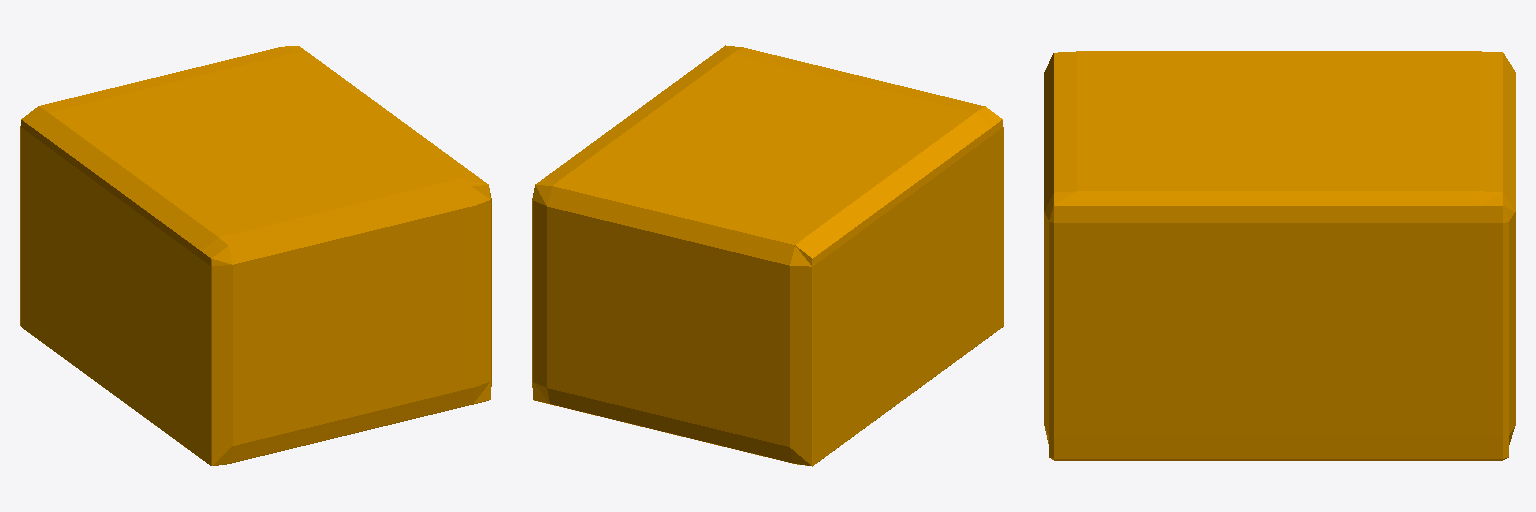
robot.urdf — cylinder_box_28:
<?xml version="1.0" encoding="utf-8"?>  <robot name="cylinder_box_28">   <link name="cylinder_box_28">     <visual>       <geometry>         <mesh filename="../meshes/box/box_28.stl" scale="1 1 1"/>       </geometry>     </visual>     <collision>       <geometry>         <mesh filename="../meshes/box/box_28.stl" scale="1 1 1"/>       </geometry>     </collision>     <inertial>        <origin         xyz="0 0 0"         rpy="0 0 0" />       <mass value="0.48344391208058707"/>       <origin rpy="0 0 0" xyz="0 0 0"/>       <inertia ixx="0.0005411703793846259" ixy="-5.4701959392649525e-09" ixz="-1.73797697893543e-07" iyy="0.0004073594947111661" iyz="-4.3725101077198224e-08" izz="0.0006568754056572437"/>     </inertial>   </link>  </robot>

--- Facts derived from the render (not from the file) ---
Views: 3 orthographic renders of the robot side by side, from view 1: azimuth 30°, elevation 25°; view 2: azimuth 150°, elevation 25°; view 3: azimuth 270°, elevation 25°.
Model cylinder_box_28 with 1 links and 0 joints (none), rooted at cylinder_box_28, posed all joints at 0.
Visible links, largest first — view 1: cylinder_box_28; view 2: cylinder_box_28; view 3: cylinder_box_28.
Boxes of the visible links, x1=… form: cylinder_box_28: x1=20, y1=46, x2=491, y2=465; cylinder_box_28: x1=532, y1=45, x2=1003, y2=466; cylinder_box_28: x1=1044, y1=51, x2=1515, y2=460.
Size in the robot's own frame: 0.0809 by 0.0996 by 0.0605 metres.
1 mesh visuals loaded from 1 distinct referenced files (1 binary STL).